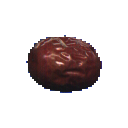gd: (22, 20, 106, 110)
